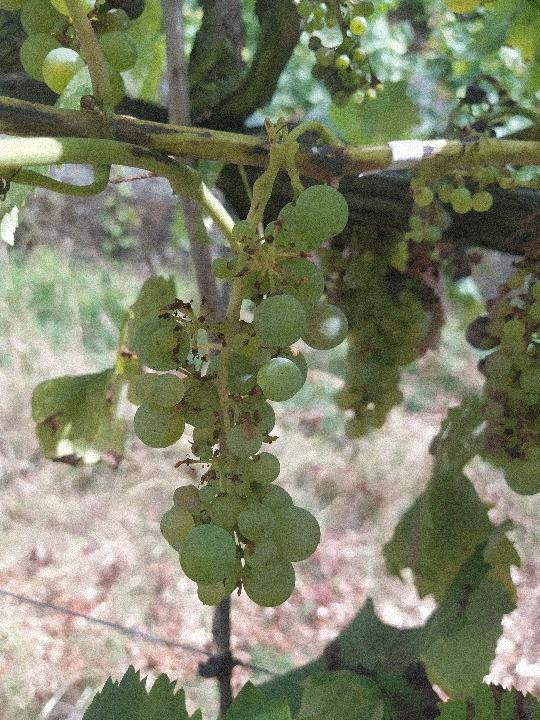grape: (122, 182, 354, 610)
